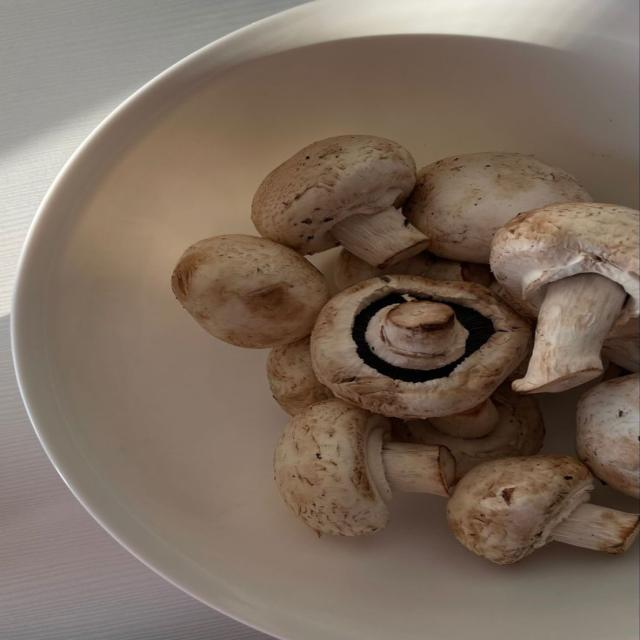champignon mushrooms: (312, 276, 531, 437), (492, 203, 639, 392), (274, 399, 454, 535), (253, 136, 428, 267), (447, 455, 639, 564), (404, 152, 592, 263), (172, 235, 329, 348), (393, 384, 544, 479), (576, 374, 639, 498), (334, 249, 492, 290), (267, 336, 333, 415), (602, 318, 639, 372)
